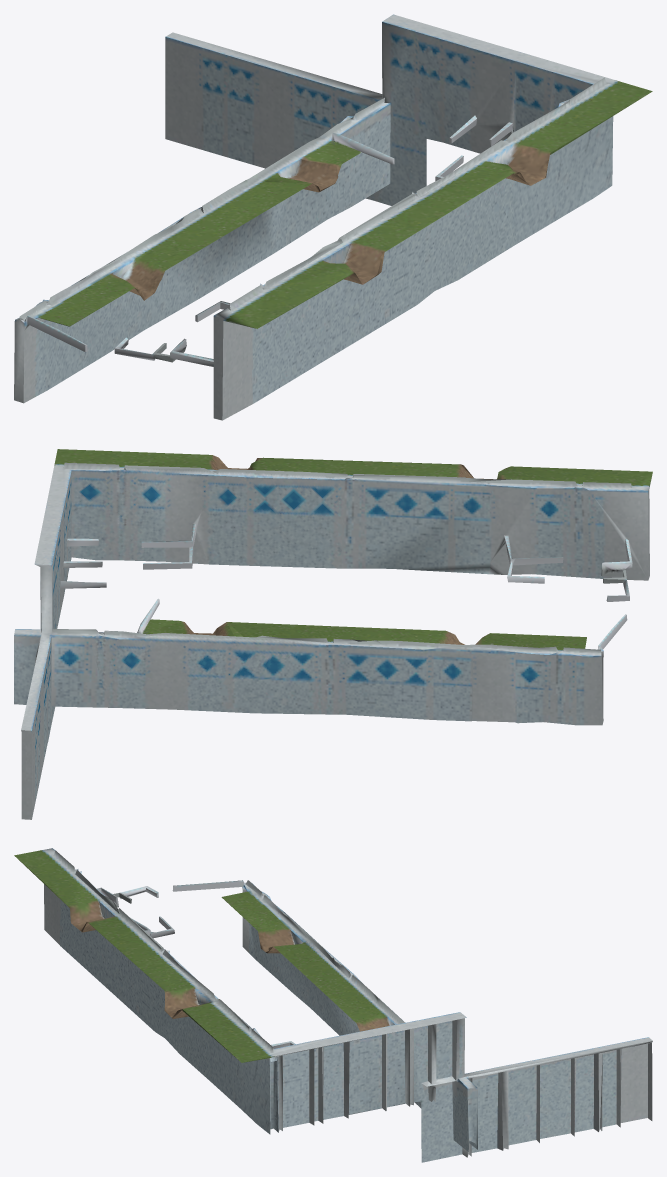
Rendered from clod_town_c02_clod_far000.gltf.
3 renders of one model, top to bottom at view 1: azimuth 30°, elevation 25°; view 2: azimuth 150°, elevation 25°; view 3: azimuth 270°, elevation 25°, orthographic. The views are drawn at different scales.
Parts seen in each view (by area): view 1: clod_town_c02_clod_far000_000_mesh_shape:remesh_mat; view 2: clod_town_c02_clod_far000_000_mesh_shape:remesh_mat; view 3: clod_town_c02_clod_far000_000_mesh_shape:remesh_mat.
Part boxes in pixels (box(x1,y1,x2,y2)): clod_town_c02_clod_far000_000_mesh_shape:remesh_mat: box(14, 14, 652, 420); clod_town_c02_clod_far000_000_mesh_shape:remesh_mat: box(14, 449, 652, 819); clod_town_c02_clod_far000_000_mesh_shape:remesh_mat: box(14, 848, 652, 1162).
Size of the model in its own units: 216 by 61.45 by 240.
Materials: 1 (1 with a texture image).
